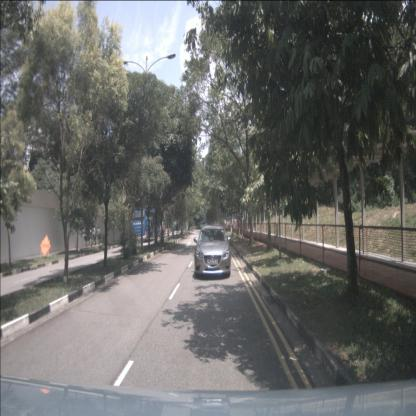human-pedestrian-adult: (92, 225, 96, 246), (88, 226, 92, 246), (97, 226, 101, 245)
vehicle-bus-rigid: (131, 207, 160, 243)
vehicle-car: (194, 224, 231, 278)
